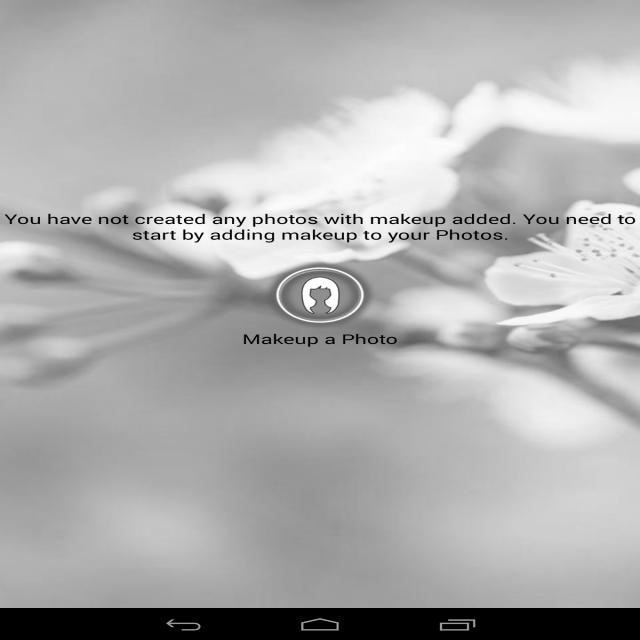ImageView: (265, 268, 379, 328)
TextView: (8, 207, 626, 242), (228, 331, 424, 353)
